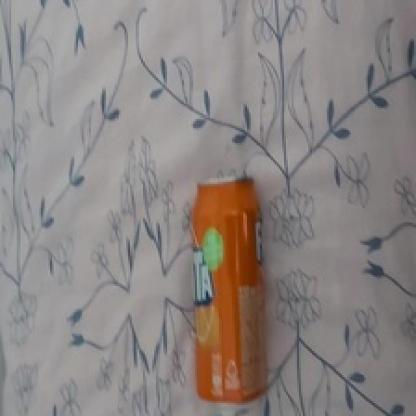Can: (192, 171, 267, 404)
